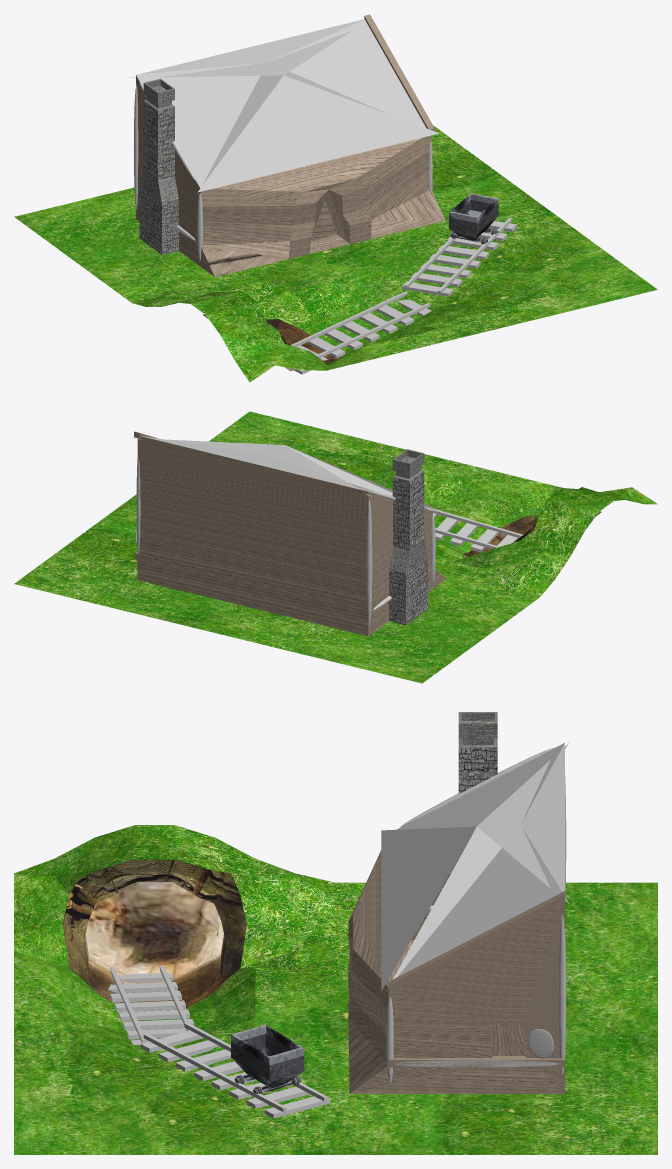
File: ElfMine.fbx
3 views of the same model, one above another, from view 1: azimuth 30°, elevation 25°; view 2: azimuth 150°, elevation 25°; view 3: azimuth 270°, elevation 25° (orthographic). The views are drawn at different scales.
Visible parts, largest first — view 1: Cube, Tejado, Casa, Chimenea, Listones2, listones1, Carrito, casamadera, Vias.001, Agujero, Vias; view 2: Cube, Casa, Chimenea, Tejado, casamadera, listones1, Vias.001, Agujero; view 3: Cube, Casa, Tejado, Agujero, casamadera, Carrito, Listones2, listones1, Chimenea, Vias, Vias.001.
Part boxes in pixels (bbox=[...]): Cube: bbox=[14, 125, 657, 382]; Tejado: bbox=[129, 19, 439, 192]; Casa: bbox=[136, 14, 445, 276]; Chimenea: bbox=[139, 78, 178, 254]; Listones2: bbox=[402, 221, 516, 296]; listones1: bbox=[294, 299, 431, 374]; Carrito: bbox=[449, 193, 498, 244]; casamadera: bbox=[133, 82, 432, 261]; Vias.001: bbox=[291, 291, 430, 358]; Agujero: bbox=[203, 315, 340, 371]; Vias: bbox=[404, 218, 512, 293]; Cube: bbox=[14, 411, 657, 683]; Casa: bbox=[134, 431, 446, 636]; Chimenea: bbox=[389, 449, 428, 625]; Tejado: bbox=[132, 436, 439, 511]; casamadera: bbox=[135, 457, 435, 625]; listones1: bbox=[433, 513, 517, 552]; Vias.001: bbox=[425, 507, 522, 548]; Agujero: bbox=[464, 512, 601, 556]; Cube: bbox=[14, 825, 657, 1154]; Casa: bbox=[348, 850, 565, 1093]; Tejado: bbox=[381, 743, 568, 991]; Agujero: bbox=[62, 859, 246, 1011]; casamadera: bbox=[386, 748, 566, 1084]; Carrito: bbox=[231, 1024, 304, 1094]; Listones2: bbox=[140, 1030, 330, 1118]; listones1: bbox=[108, 973, 194, 1045]; Chimenea: bbox=[447, 712, 497, 878]; Vias: bbox=[143, 1022, 327, 1112]; Vias.001: bbox=[110, 966, 189, 1043].
Size of the model in its own units: 1084 by 484 by 1084.
